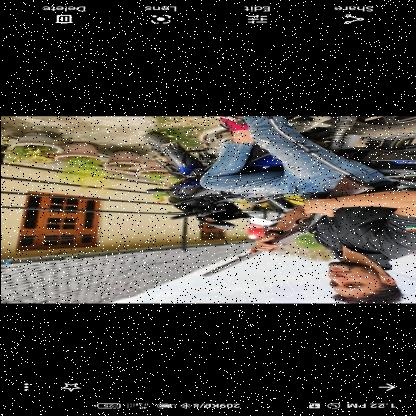rifle: (200, 173, 376, 277)
